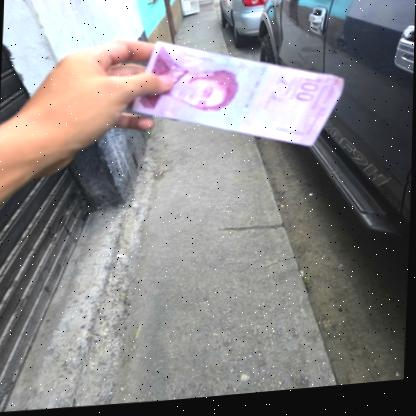vef_front: (128, 29, 347, 165)
